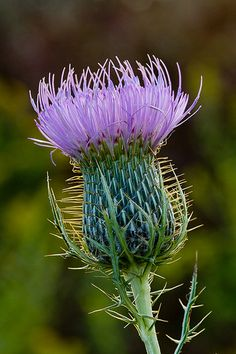thistle: (22, 64, 202, 266)
